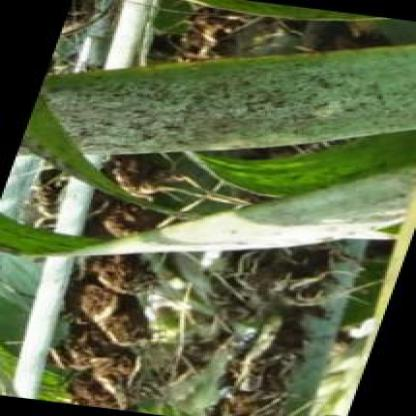Wheat Smut: (73, 337, 127, 397), (239, 255, 317, 295), (80, 291, 134, 334), (260, 297, 312, 327), (306, 26, 369, 47), (120, 160, 160, 193), (227, 392, 282, 416), (153, 32, 202, 57), (95, 256, 133, 286), (103, 204, 139, 231), (232, 366, 272, 390), (242, 336, 284, 358), (201, 7, 230, 28)
